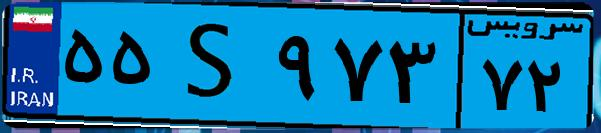2: (525, 38, 570, 115)
3: (385, 28, 445, 110)
5: (57, 26, 110, 100), (110, 28, 158, 98)
7: (330, 28, 385, 110), (475, 38, 525, 113)
9: (270, 28, 330, 110)
S: (158, 12, 270, 120)
